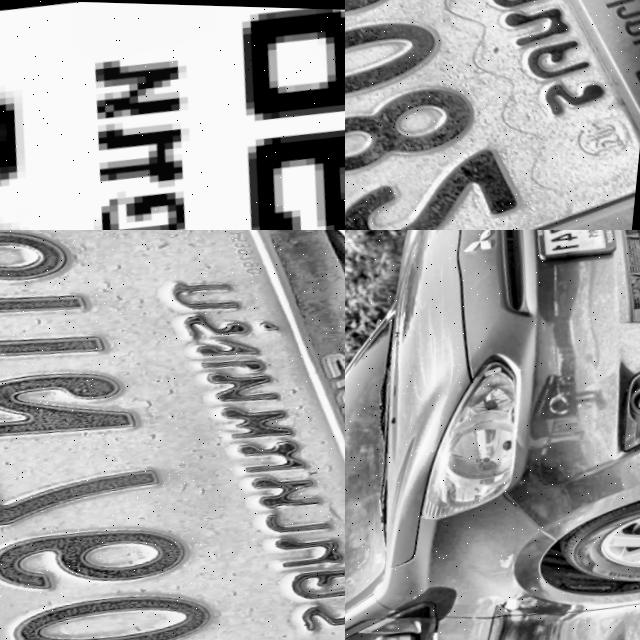license-plate: (0, 230, 345, 640), (0, 0, 345, 230), (345, 0, 640, 230), (519, 230, 623, 260)
